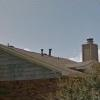Chimney: (72, 28, 100, 65)
